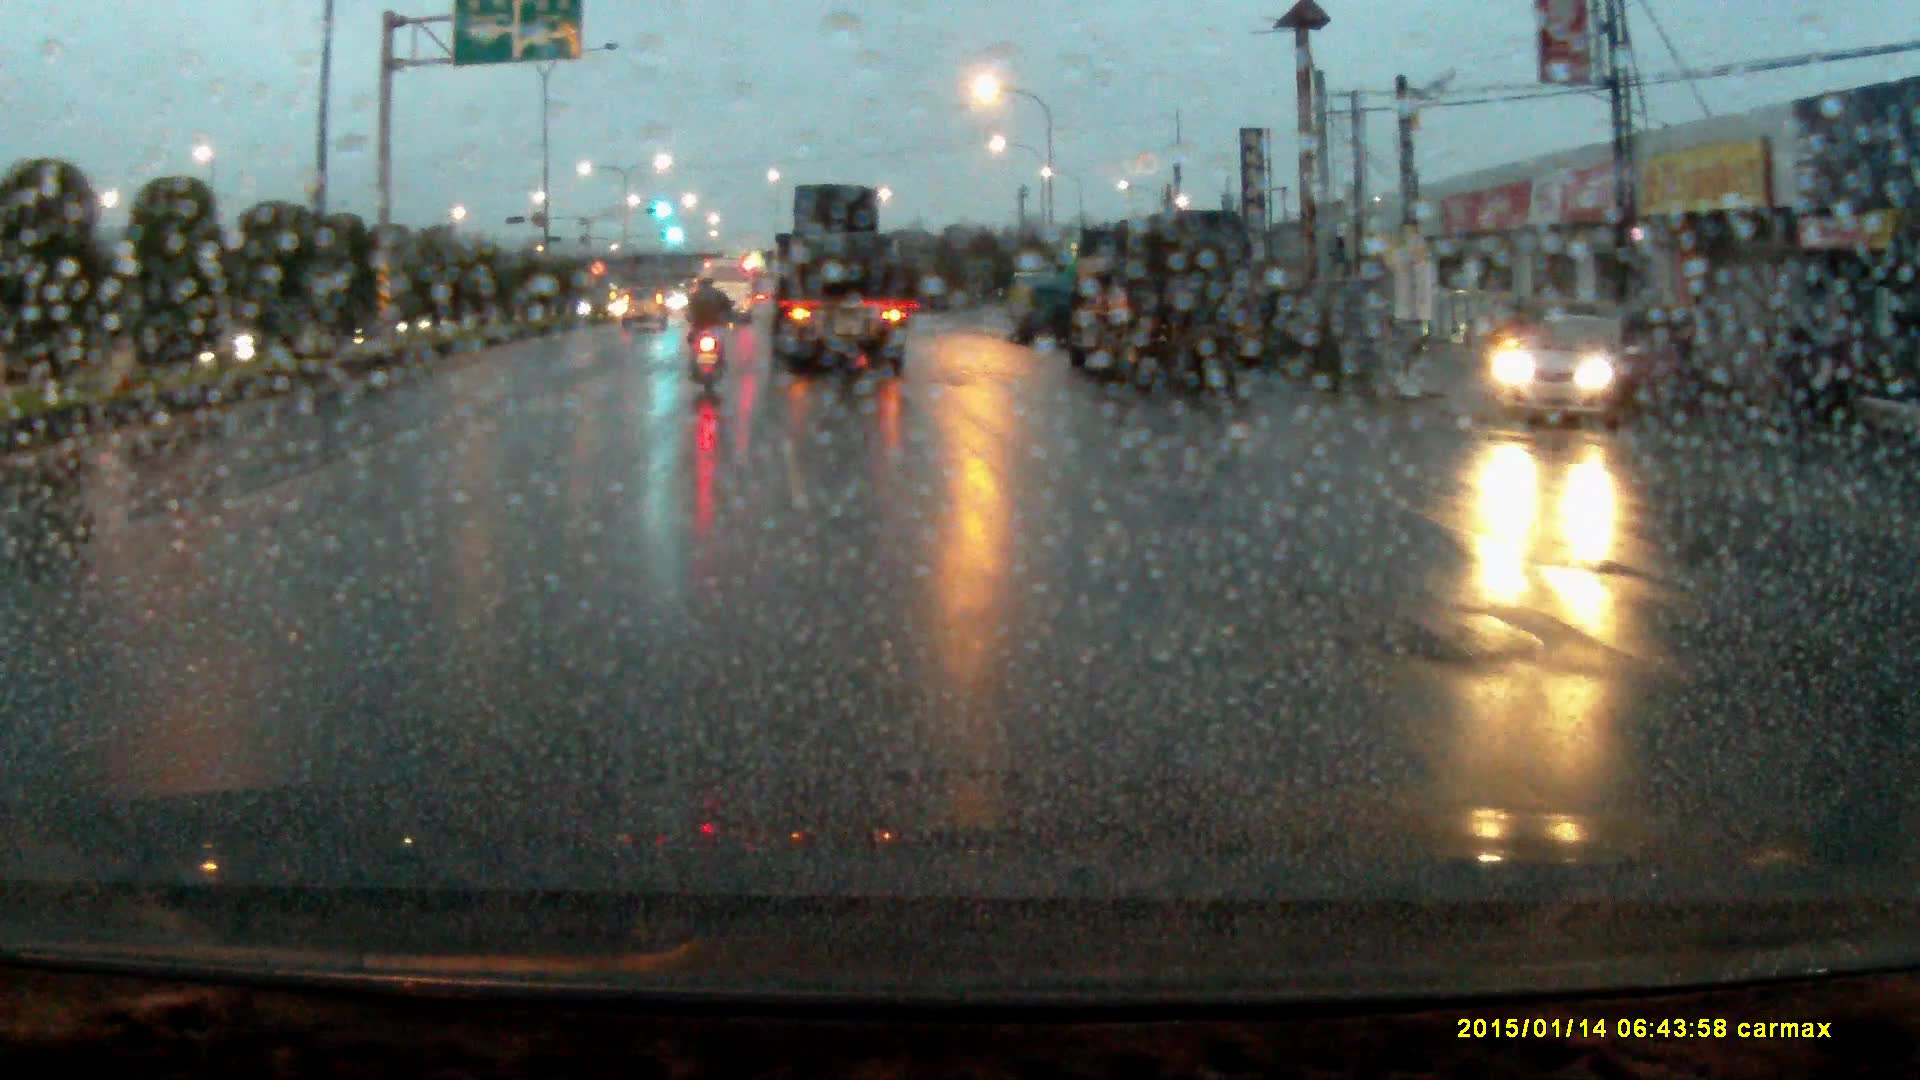rider: (680, 270, 737, 401)
vehicle: (1067, 208, 1259, 400), (771, 191, 909, 381), (1480, 307, 1677, 426), (1004, 271, 1080, 349), (703, 259, 752, 324), (617, 289, 668, 336)
